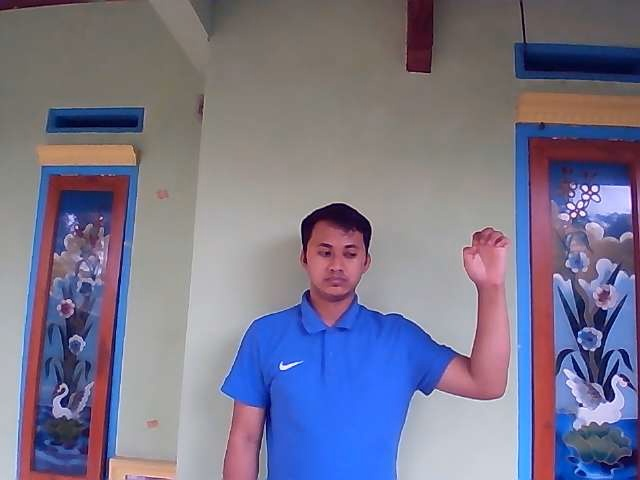E: (461, 227, 511, 288)
